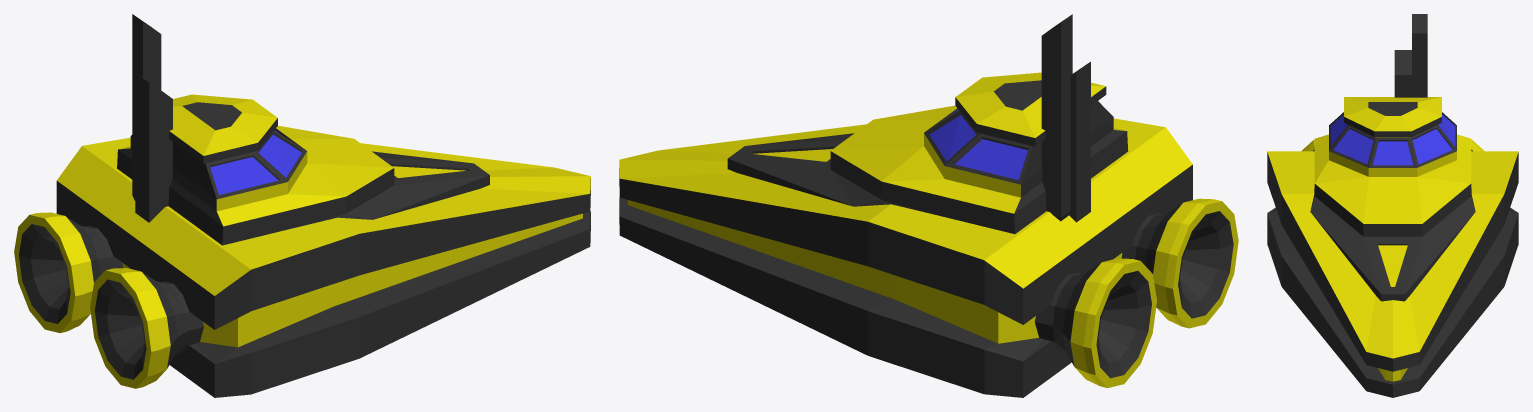
Rendered from Spaceship.dae.
The picture shows the model from 3 angles, left to right: view 1: azimuth 30°, elevation 25°; view 2: azimuth 150°, elevation 25°; view 3: azimuth 270°, elevation 25°; orthographic projection. The views are drawn at different scales.
Parts seen in each view (by area): view 1: Cube, Cube.001, Cylinder; view 2: Cube, Cube.001, Cylinder; view 3: Cube, Cube.001.
Part boxes in pixels (box(x1,y1,x2,y2)): Cube: box(56, 137, 590, 397); Cube.001: box(117, 14, 489, 245); Cylinder: box(14, 212, 203, 388); Cube: box(619, 118, 1192, 397); Cube.001: box(727, 14, 1128, 233); Cylinder: box(1034, 198, 1238, 387); Cube: box(1267, 151, 1518, 397); Cube.001: box(1310, 14, 1475, 301).
Size of the model in its own units: 8.2 by 4.73 by 4.76.
